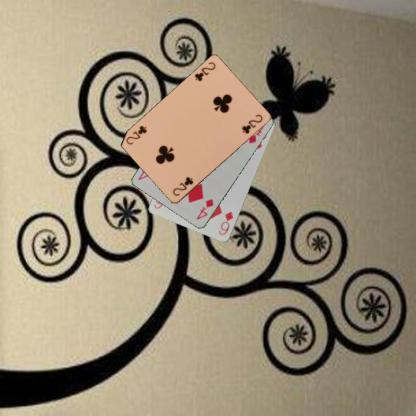2c: (170, 174, 195, 198), (192, 60, 216, 82)
4d: (194, 196, 215, 221)
6d: (216, 209, 235, 236)
